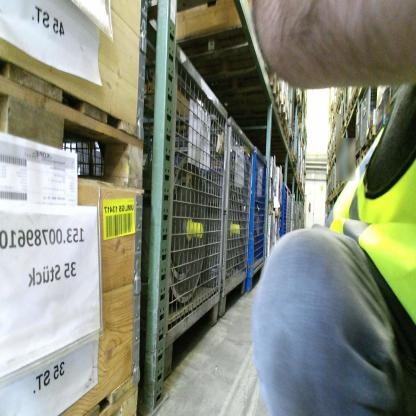pallet: (2, 70, 148, 201), (90, 377, 143, 415), (243, 99, 287, 133), (252, 115, 290, 147), (264, 140, 293, 161), (261, 74, 280, 103), (271, 147, 297, 167), (363, 127, 379, 145), (361, 145, 374, 164), (351, 85, 361, 107), (345, 107, 355, 126), (354, 157, 363, 170), (348, 166, 356, 179), (339, 180, 345, 188)
stillage: (123, 26, 232, 367), (159, 91, 252, 324), (229, 129, 264, 299), (362, 81, 387, 148), (276, 180, 286, 241), (356, 99, 364, 166), (285, 182, 292, 237), (292, 186, 297, 235), (333, 162, 338, 191), (331, 165, 335, 196)
